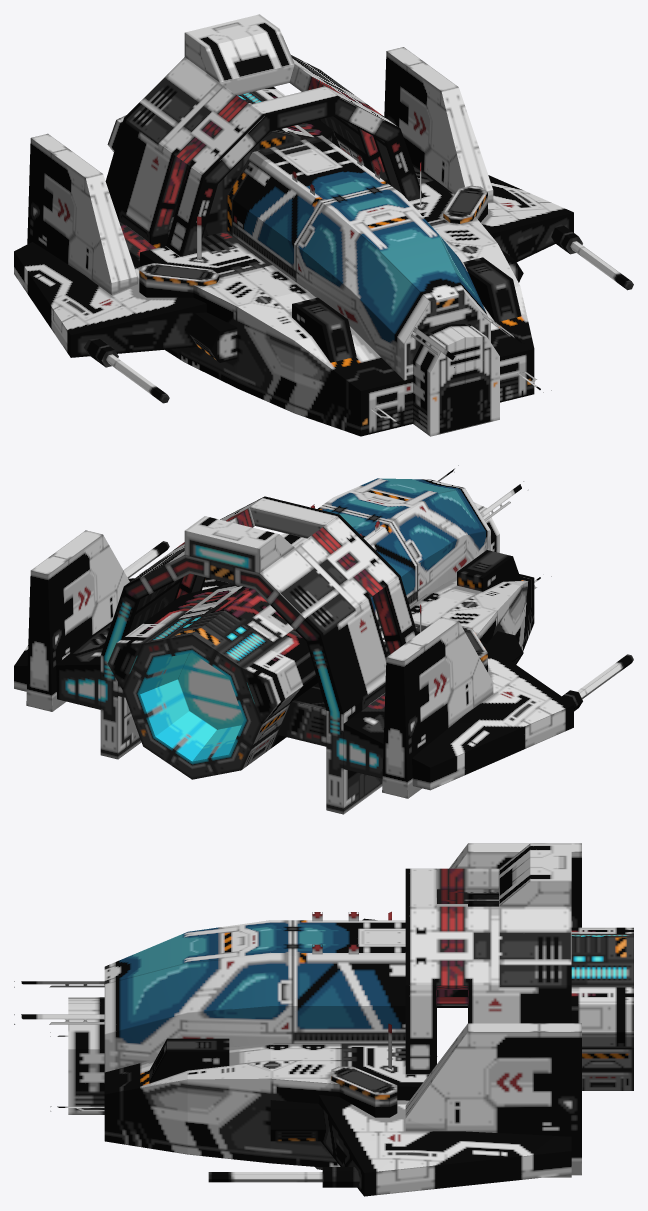
The model's file is Spaceship.fbx.
3 views of the same model, one above another, from view 1: azimuth 30°, elevation 25°; view 2: azimuth 150°, elevation 25°; view 3: azimuth 270°, elevation 25° (orthographic). The views are drawn at different scales.
Parts seen in each view (by area): view 1: Ship, DetailPieces; view 2: Ship, DetailPieces; view 3: Ship, DetailPieces.
Boxes of the visible parts, x1=… form: Ship: x1=14, y1=14, x2=633, y2=436; DetailPieces: x1=197, y1=154, x2=551, y2=424; Ship: x1=14, y1=478, x2=633, y2=814; DetailPieces: x1=311, y1=465, x2=551, y2=632; Ship: x1=68, y1=843, x2=633, y2=1196; DetailPieces: x1=14, y1=911, x2=467, y2=1111.
Bounding box in the file's own units: 58 × 27 × 59.75.
